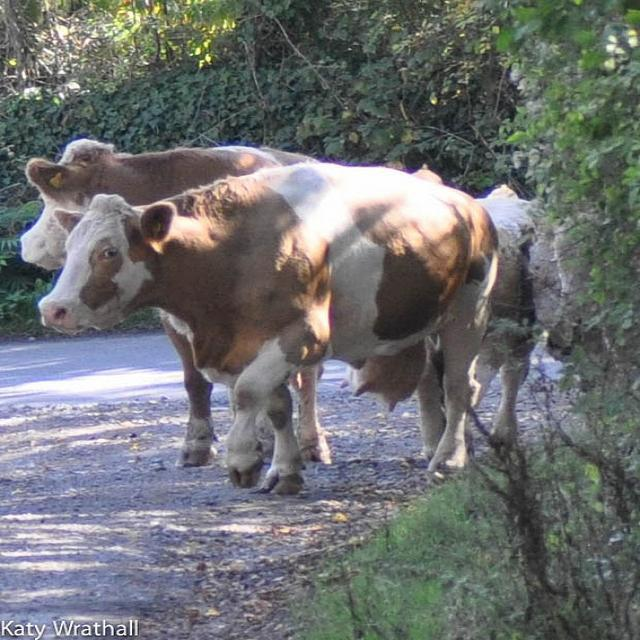cow: (30, 161, 498, 501), (11, 133, 304, 265), (474, 190, 542, 447)
